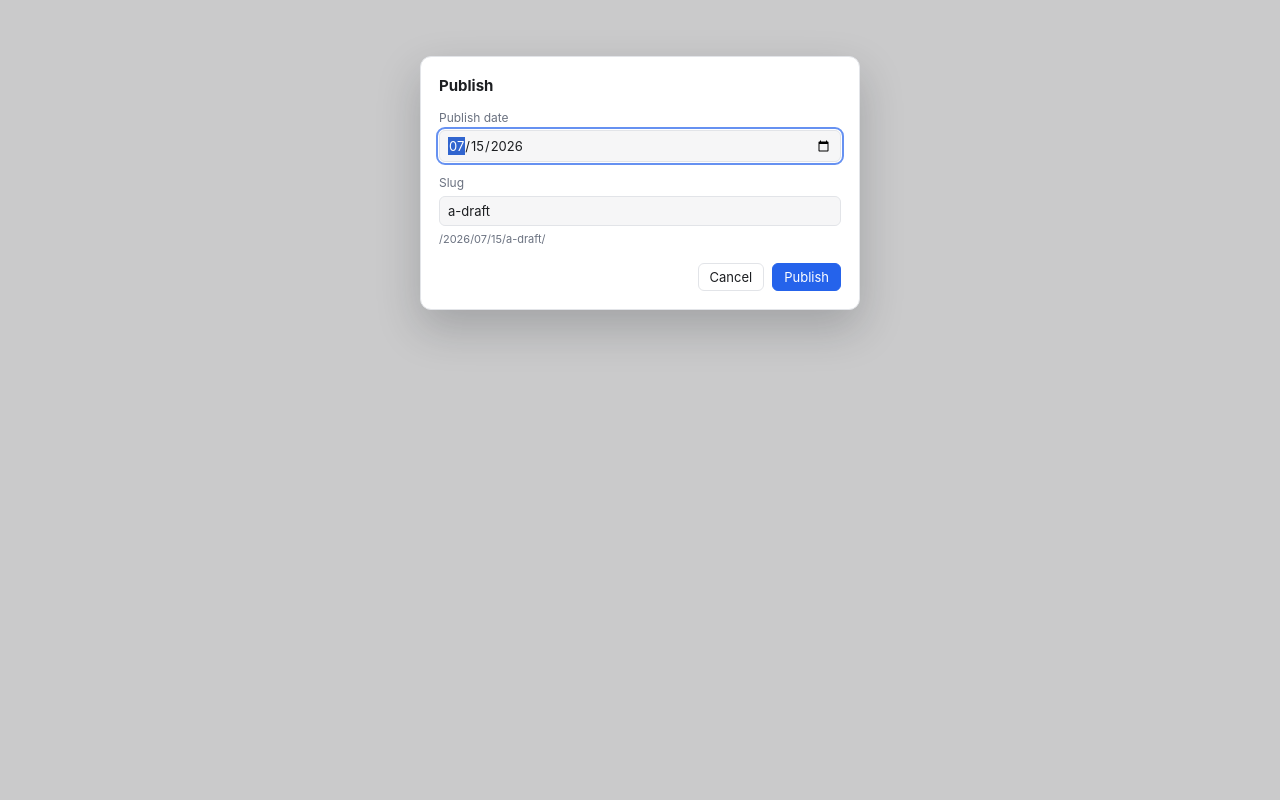
it: PublishDialog — slug validation gates Publish › disables Publish when the slug contains a space
Replace the text in the field labelled "Slug" with "has a space" at (640, 210), box [439,196,841,226]
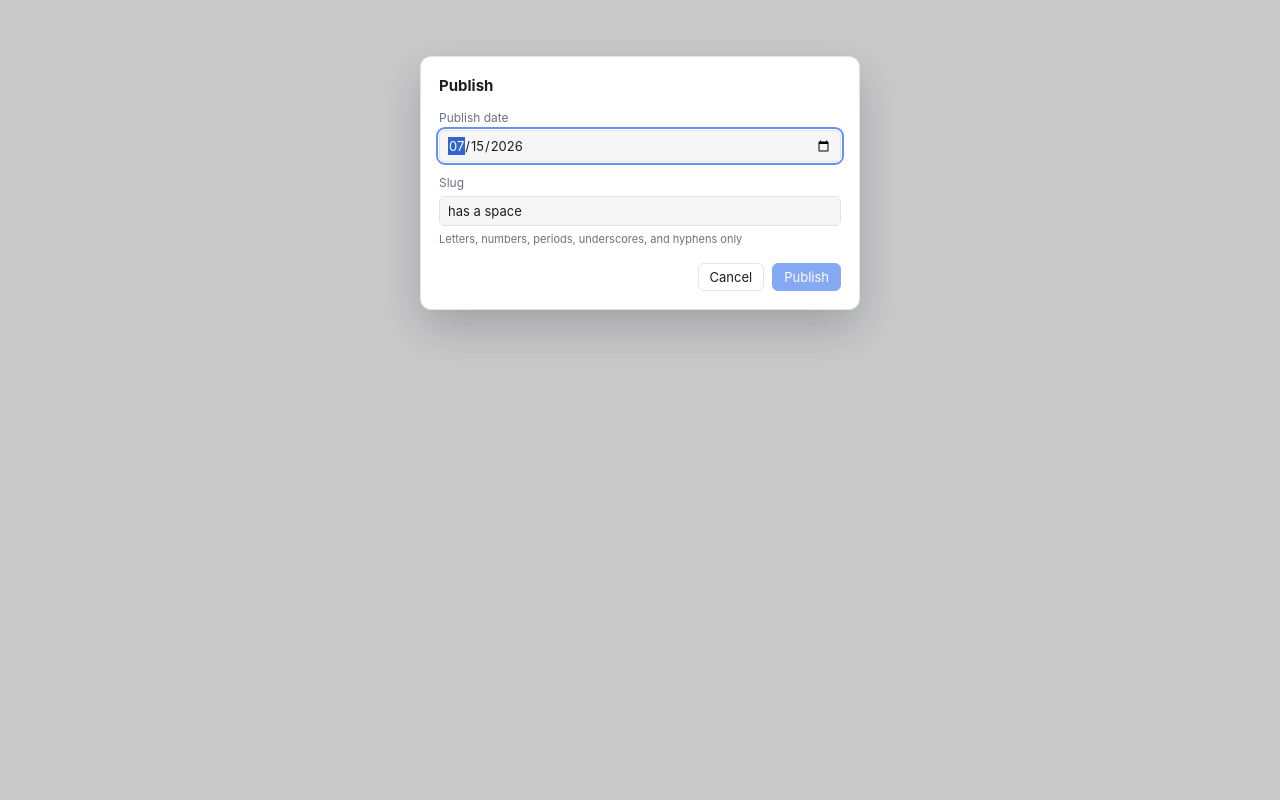
expect the button "Publish" is disabled: met, box [772,264,841,292]
